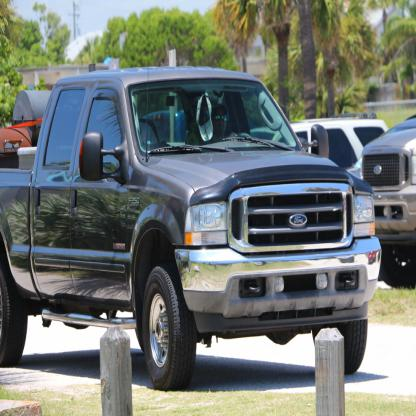Car: (249, 110, 389, 167)
Truck: (0, 28, 382, 391)
